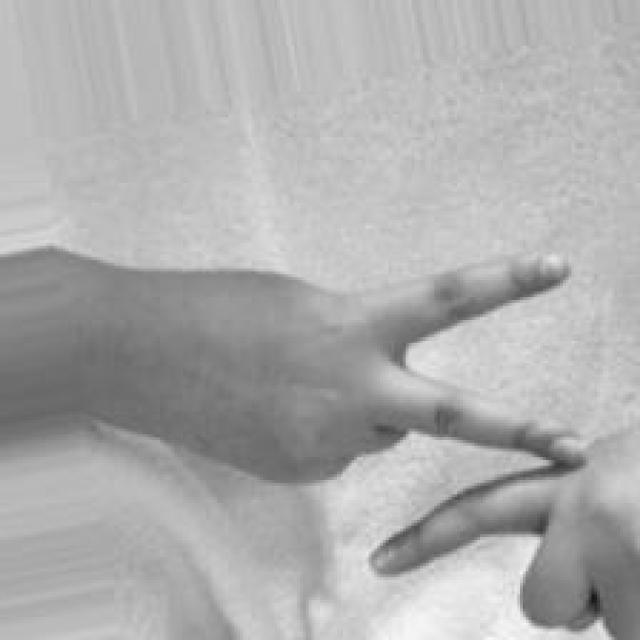Z: (196, 252, 640, 640)
